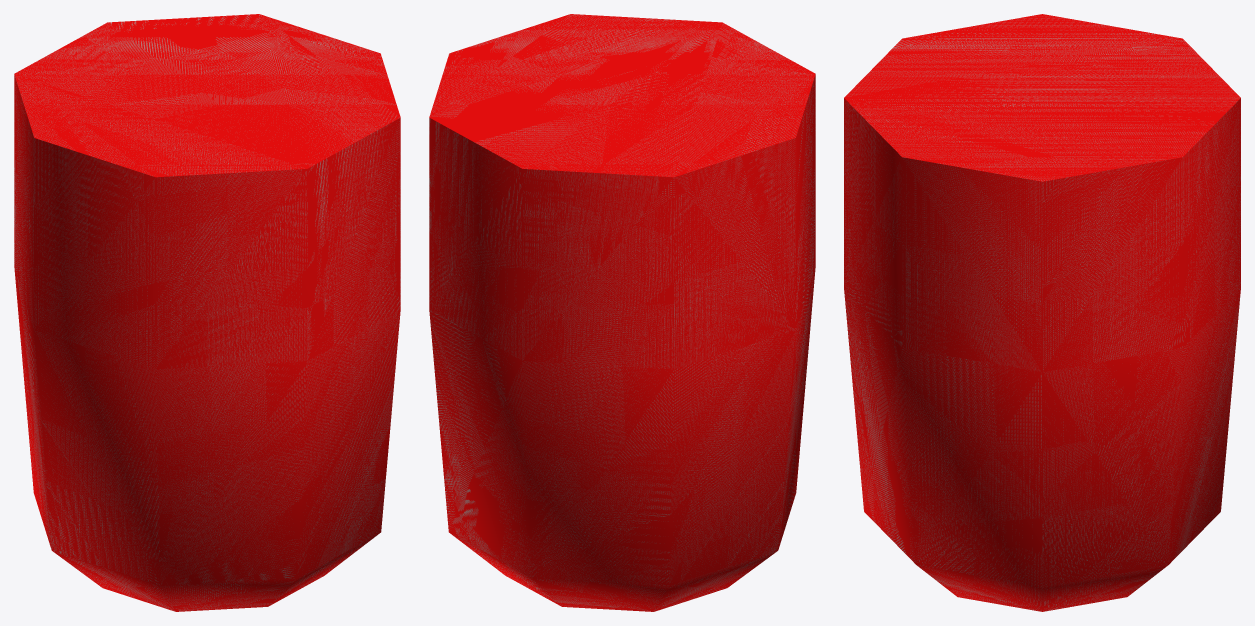
Rendered from original-40.obj.
3 renders of one model, left to right at view 1: azimuth 30°, elevation 25°; view 2: azimuth 150°, elevation 25°; view 3: azimuth 270°, elevation 25°, orthographic.
Parts seen in each view (by area): view 1: Group_22_26/Group_22/mesh9/mesh9-geometry#mesh9-geometry; view 2: Group_22_26/Group_22/mesh9/mesh9-geometry#mesh9-geometry; view 3: Group_22_26/Group_22/mesh9/mesh9-geometry#mesh9-geometry.
Part boxes in pixels (x1,y1,x2,y2): Group_22_26/Group_22/mesh9/mesh9-geometry#mesh9-geometry: (14,14,400,611); Group_22_26/Group_22/mesh9/mesh9-geometry#mesh9-geometry: (429,14,815,611); Group_22_26/Group_22/mesh9/mesh9-geometry#mesh9-geometry: (844,14,1240,611).
Bounding box in the file's own units: 0.0121 × 0.0156 × 0.0121.
